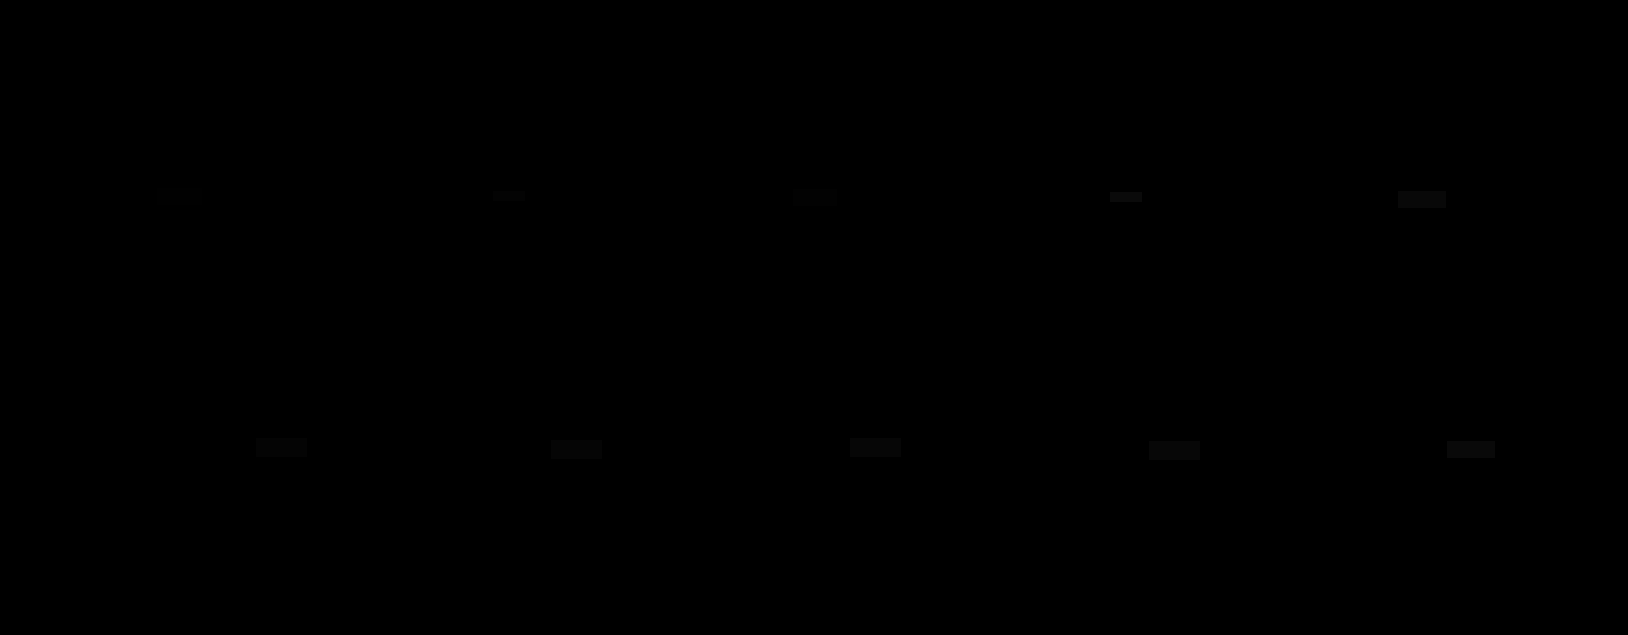light: (256, 438, 307, 457), (551, 440, 602, 459), (850, 438, 901, 457), (1149, 441, 1200, 460), (1398, 191, 1446, 208), (157, 188, 202, 205), (1447, 441, 1495, 458), (793, 189, 837, 206), (493, 191, 525, 201), (1110, 192, 1142, 202)
